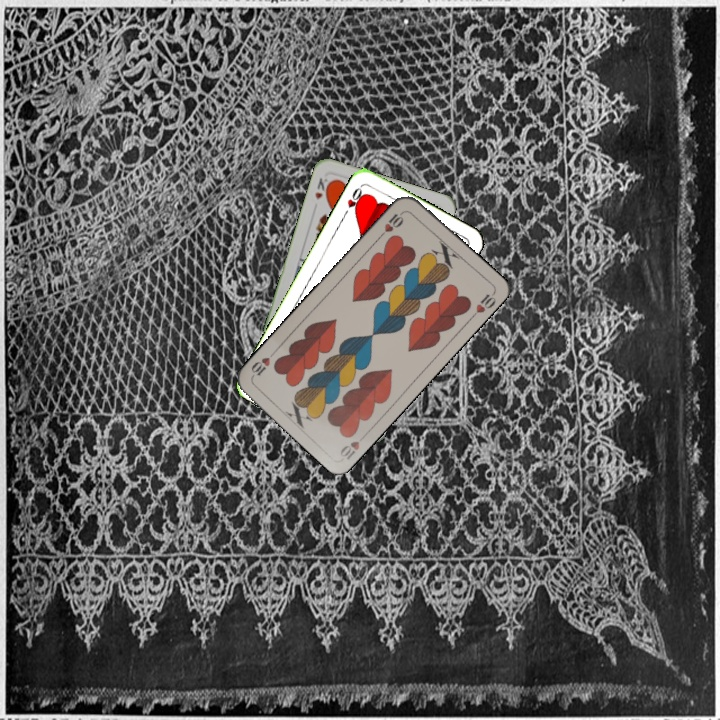H10: (336, 429, 370, 462), (375, 207, 407, 240)
HK: (311, 174, 334, 202)
HO: (339, 182, 368, 219)
